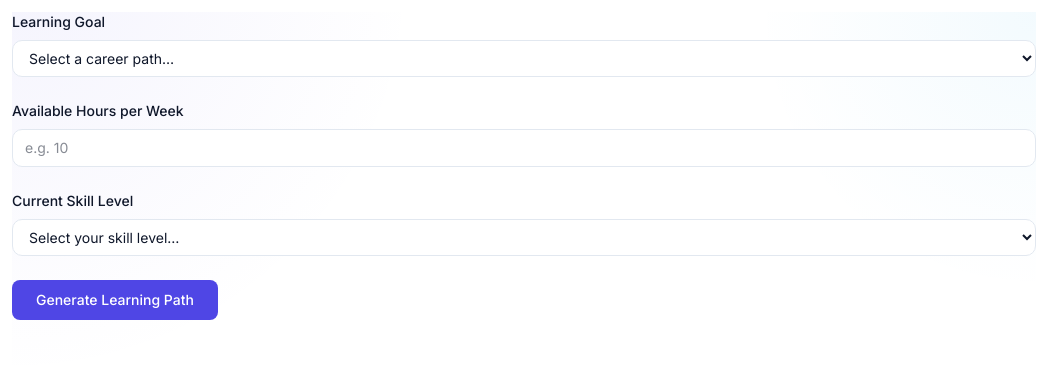
Test case: PathGeneratorPage validation messages › shows an error for non-integer hours input (Req 10.6)
Select "Frontend" in the dropdown labelled "Learning Goal" at (524, 58), box [12,40,1036,77]
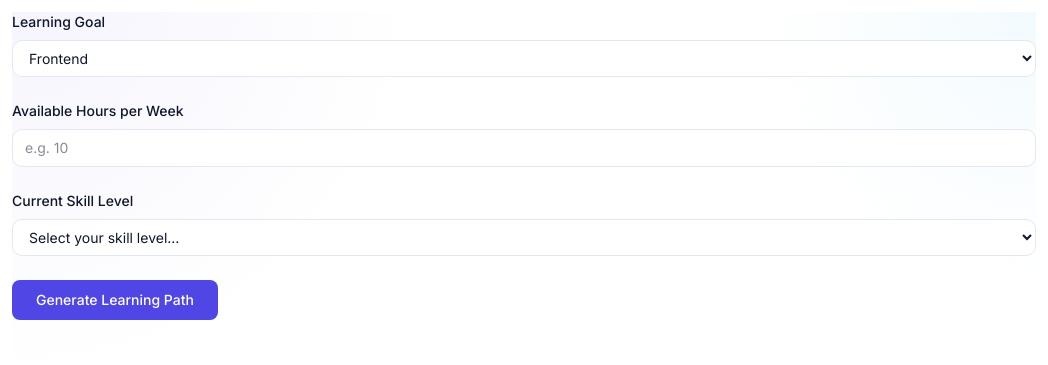
Type "3.5" into the number field labelled "Available Hours per Week".
click(524, 148); type("3.5")  # box [12,129,1036,167]
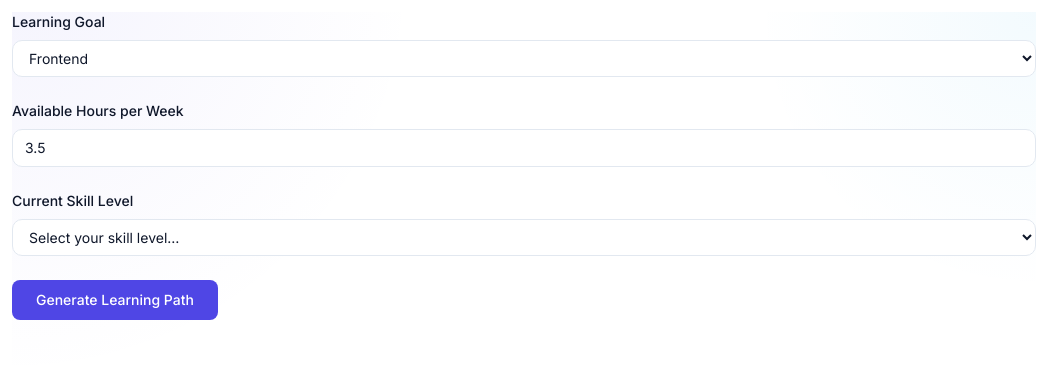
Select "Beginner" in the dropdown labelled "Current Skill Level" at (524, 238), box [12,219,1036,256]
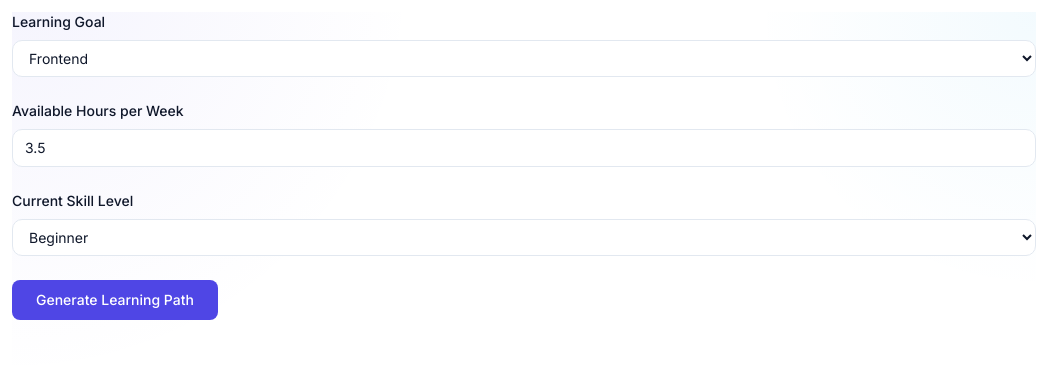
Click the button "Generate Learning Path".
click(115, 300)  # box [12,280,218,320]
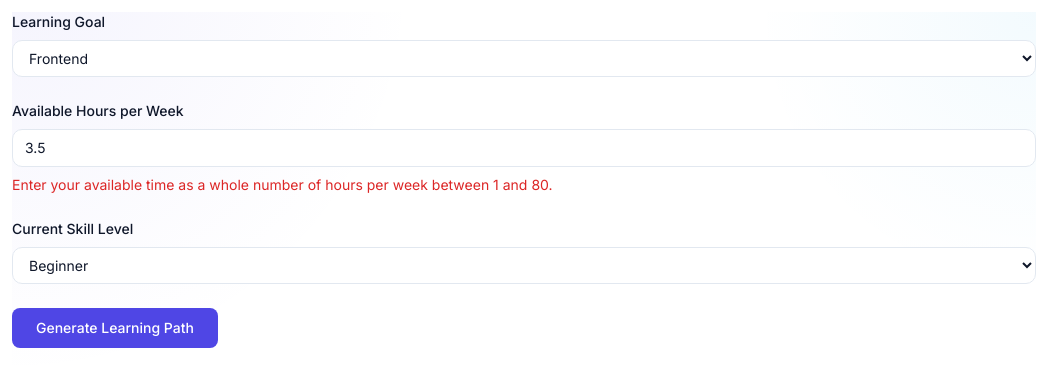
Result: the text "Enter your available time as a whole number of hours per week between 1 and 80." is shown at [12,176,553,193]
